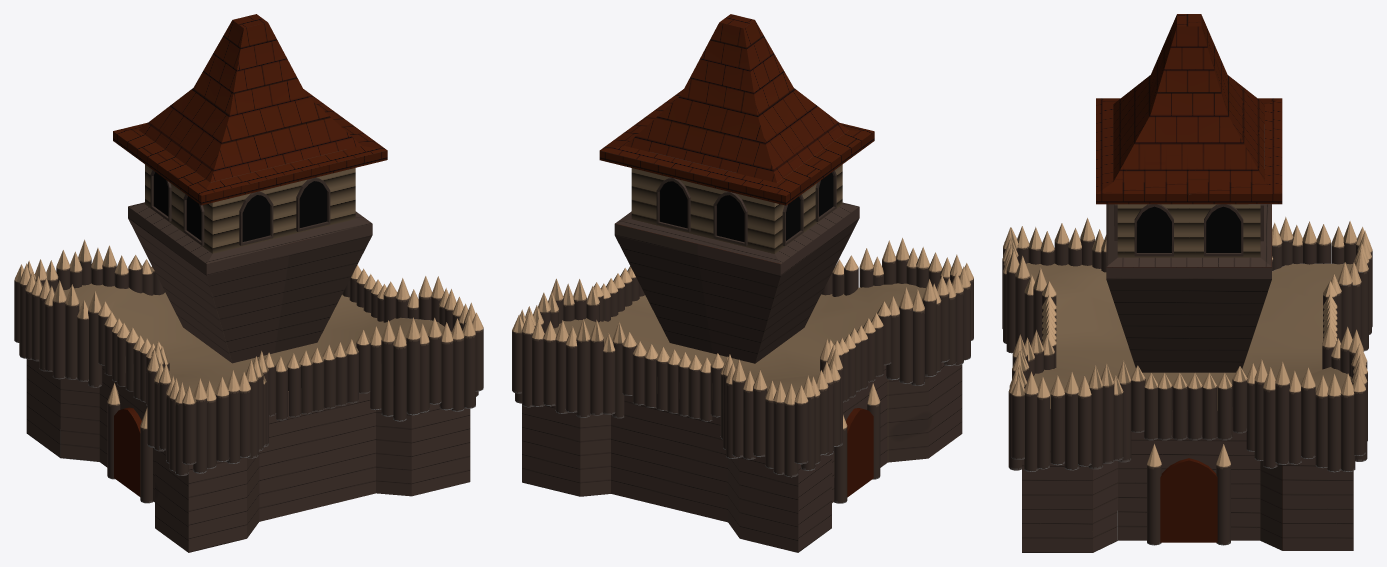
Rendered from CastleLevel1.fbx.
3 views of the same model, side by side, from view 1: azimuth 30°, elevation 25°; view 2: azimuth 150°, elevation 25°; view 3: azimuth 270°, elevation 25° (orthographic). The views are drawn at different scales.
Visible parts, largest first — view 1: Cube.002; view 2: Cube.002; view 3: Cube.002.
Part boxes in pixels (<box>): Cube.002: <box>14,14,483,552</box>; Cube.002: <box>512,14,973,552</box>; Cube.002: <box>1002,14,1372,552</box>.
Bounding box in the file's own units: 756 × 1030 × 749.
Materials: 1 (1 with a texture image).
